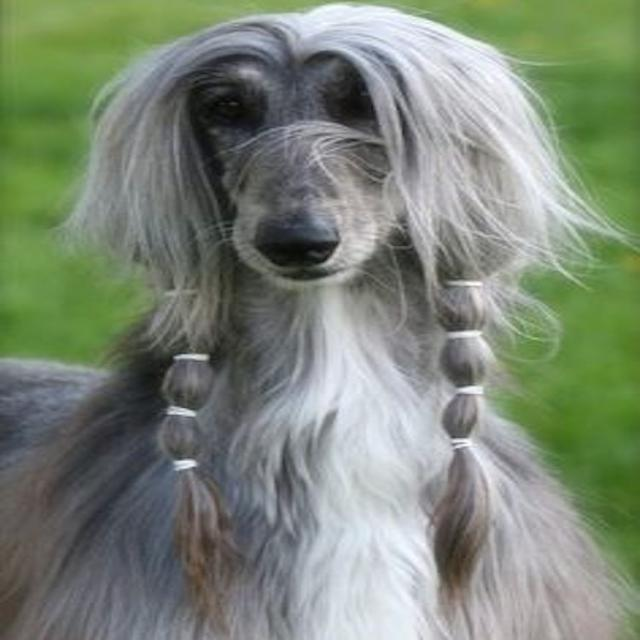dog: (61, 3, 600, 352)
